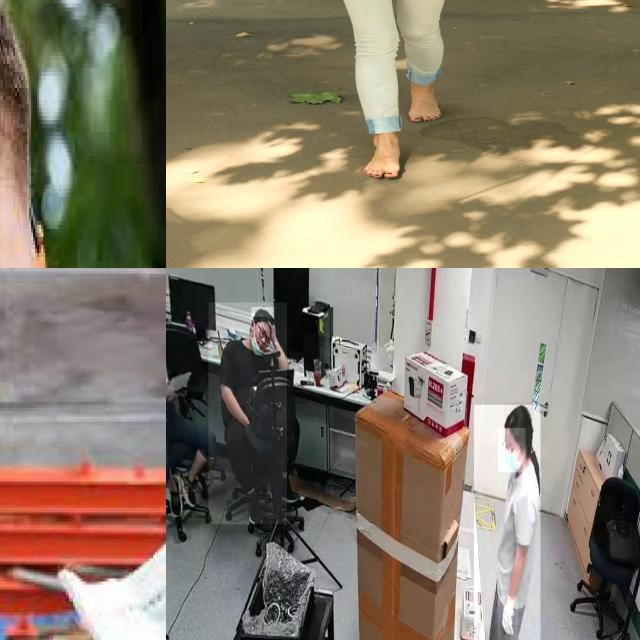Barefoots: (363, 136, 401, 178), (408, 82, 442, 122)
face_mask: (498, 428, 526, 472)
hand_glove: (497, 596, 518, 640)
hand_noglove: (266, 316, 278, 344)
head_nohelmet: (504, 402, 534, 429), (251, 307, 275, 318)
person: (208, 302, 288, 524), (474, 404, 541, 640)
shoes: (179, 470, 201, 512), (168, 472, 183, 520)
